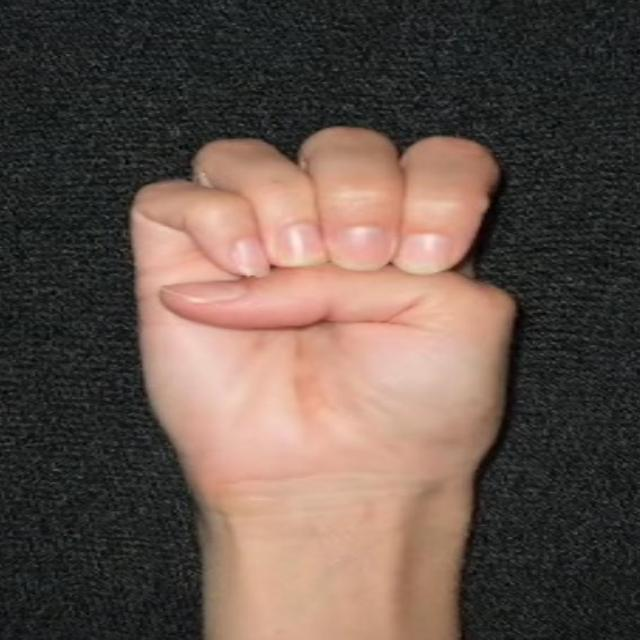E: (122, 124, 533, 502)
